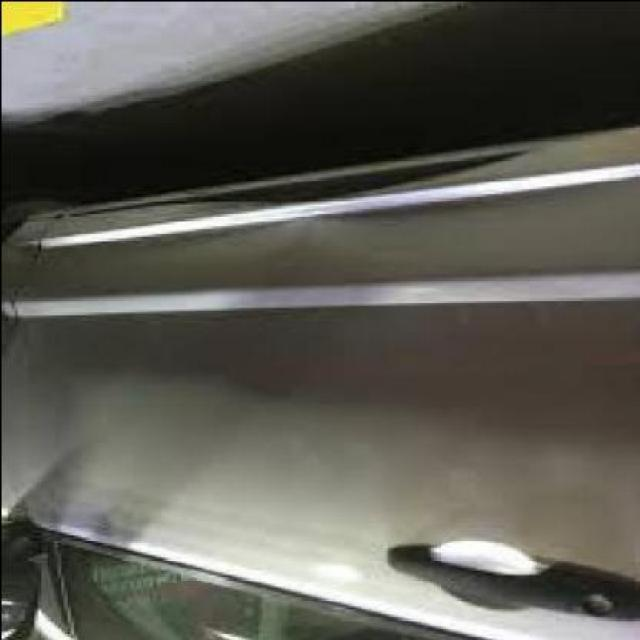damage: (202, 215, 399, 406)
